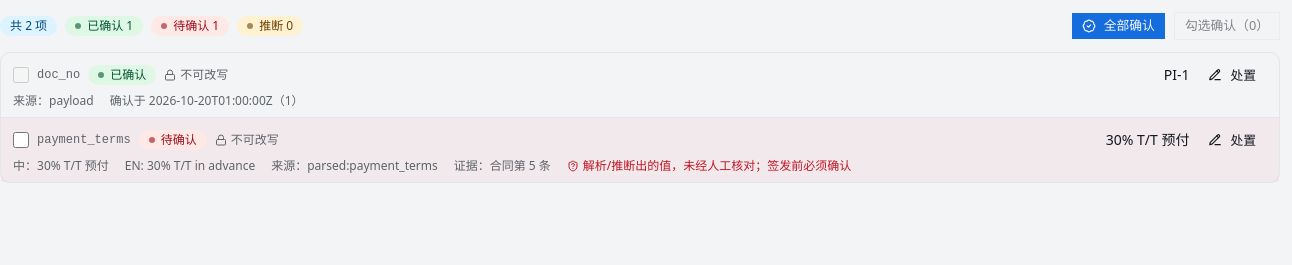
DocFactsPanel · 未确认 → 确认 → summary 变化 › 未确认项高亮、可全部确认，确认后统计立刻更新
The image size is (1292, 265).
Step 1. Click the button "全部确认" → coordinates (1118, 26), box left=1071, top=12, right=1166, bottom=40
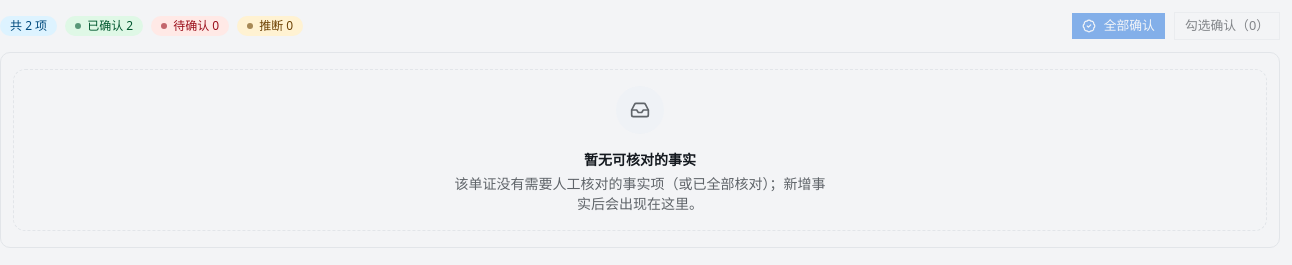
Expected: the text "待确认 0" is shown, left=151, top=16, right=229, bottom=36
